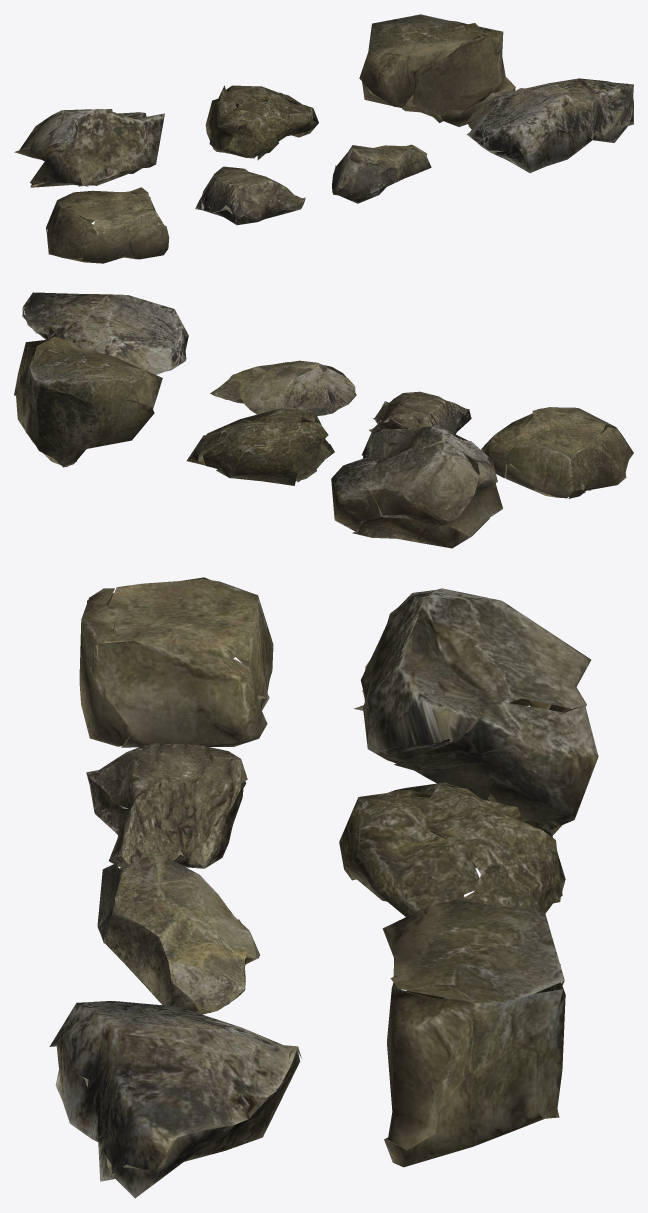
Rendered from wall_rocks.glb.
The picture shows the model from 3 angles, top to bottom: view 1: azimuth 30°, elevation 25°; view 2: azimuth 150°, elevation 25°; view 3: azimuth 270°, elevation 25°; orthographic projection. The views are drawn at different scales.
Visible parts, largest first — view 1: rock_moss_set_02_rock13, rock_moss_set_02_rock10, rock_moss_set_02_rock11, rock_moss_set_02_rock07, rock_moss_set_02_rock12, rock_moss_set_02_rock08, rock_moss_set_02_rock09; view 2: rock_moss_set_02_rock11, rock_moss_set_02_rock13, rock_moss_set_02_rock07, rock_moss_set_02_rock10, rock_moss_set_02_rock12, rock_moss_set_02_rock09, rock_moss_set_02_rock08; view 3: rock_moss_set_02_rock13, rock_moss_set_02_rock11, rock_moss_set_02_rock10, rock_moss_set_02_rock07, rock_moss_set_02_rock12, rock_moss_set_02_rock09, rock_moss_set_02_rock08.
Boxes of the visible parts, left/top/right/bottom form: rock_moss_set_02_rock13: left=359, top=14, right=515, bottom=126; rock_moss_set_02_rock10: left=466, top=78, right=633, bottom=172; rock_moss_set_02_rock11: left=14, top=109, right=164, bottom=187; rock_moss_set_02_rock07: left=46, top=187, right=169, bottom=263; rock_moss_set_02_rock12: left=205, top=85, right=318, bottom=160; rock_moss_set_02_rock08: left=195, top=166, right=305, bottom=225; rock_moss_set_02_rock09: left=332, top=144, right=431, bottom=203; rock_moss_set_02_rock11: left=331, top=425, right=502, bottom=548; rock_moss_set_02_rock13: left=14, top=336, right=162, bottom=467; rock_moss_set_02_rock07: left=481, top=407, right=633, bottom=498; rock_moss_set_02_rock10: left=22, top=292, right=188, bottom=374; rock_moss_set_02_rock12: left=186, top=408, right=334, bottom=485; rock_moss_set_02_rock09: left=210, top=360, right=356, bottom=416; rock_moss_set_02_rock08: left=369, top=391, right=471, bottom=434; rock_moss_set_02_rock13: left=382, top=899, right=565, bottom=1167; rock_moss_set_02_rock11: left=353, top=588, right=598, bottom=835; rock_moss_set_02_rock10: left=49, top=1001, right=301, bottom=1198; rock_moss_set_02_rock07: left=79, top=577, right=273, bottom=747; rock_moss_set_02_rock12: left=339, top=782, right=565, bottom=916; rock_moss_set_02_rock09: left=97, top=850, right=260, bottom=1014; rock_moss_set_02_rock08: left=86, top=743, right=247, bottom=868.
Size of the model in its own units: 8.3 by 1.38 by 3.38.
Materials: 1 (1 with a texture image).
